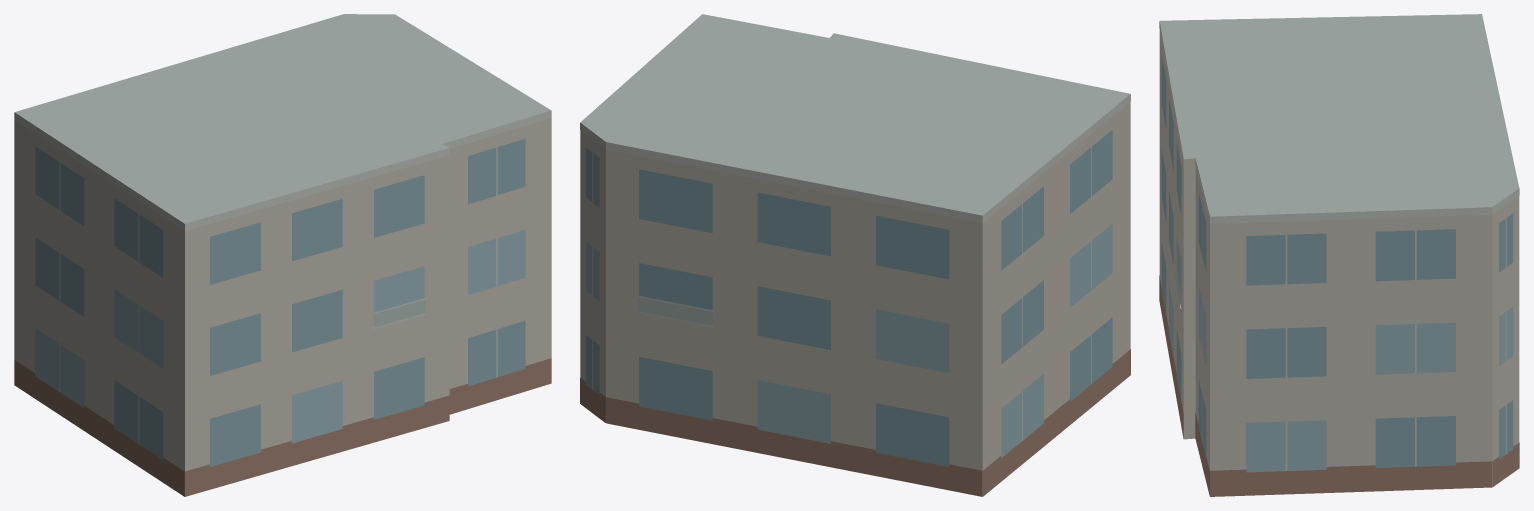
File: survey-upis-32723118.glb
3 views of the same model, side by side, from view 1: azimuth 30°, elevation 25°; view 2: azimuth 150°, elevation 25°; view 3: azimuth 270°, elevation 25° (orthographic). The views are drawn at different scales.
Visible parts, largest first — view 1: survey-upis-32723118.tmp; view 2: survey-upis-32723118.tmp; view 3: survey-upis-32723118.tmp.
Boxes of the visible parts, x1,y1,x2,y2 form: survey-upis-32723118.tmp: (14,14,551,496); survey-upis-32723118.tmp: (580,14,1130,496); survey-upis-32723118.tmp: (1159,14,1519,496).
Bounding box in the file's own units: 14.2 × 9.15 × 10.66.
